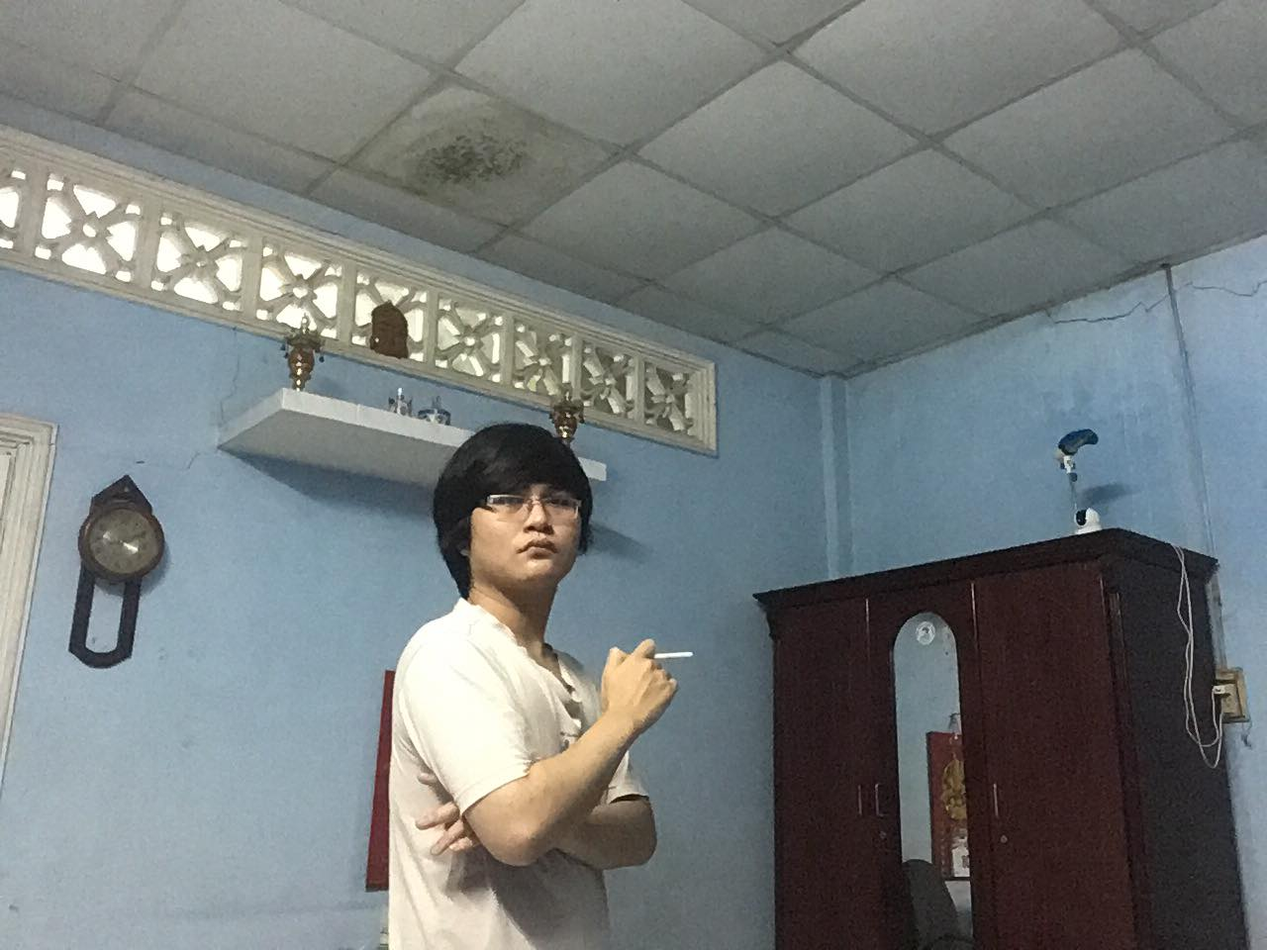cigarette: (654, 647, 697, 663)
person: (375, 419, 683, 948)
